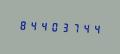eight: (17, 17, 26, 32)
four: (37, 18, 46, 33), (77, 20, 86, 35), (27, 18, 36, 32), (87, 21, 96, 35)
seven: (67, 20, 76, 34)
three: (57, 19, 66, 34)
zero: (47, 19, 56, 33)
